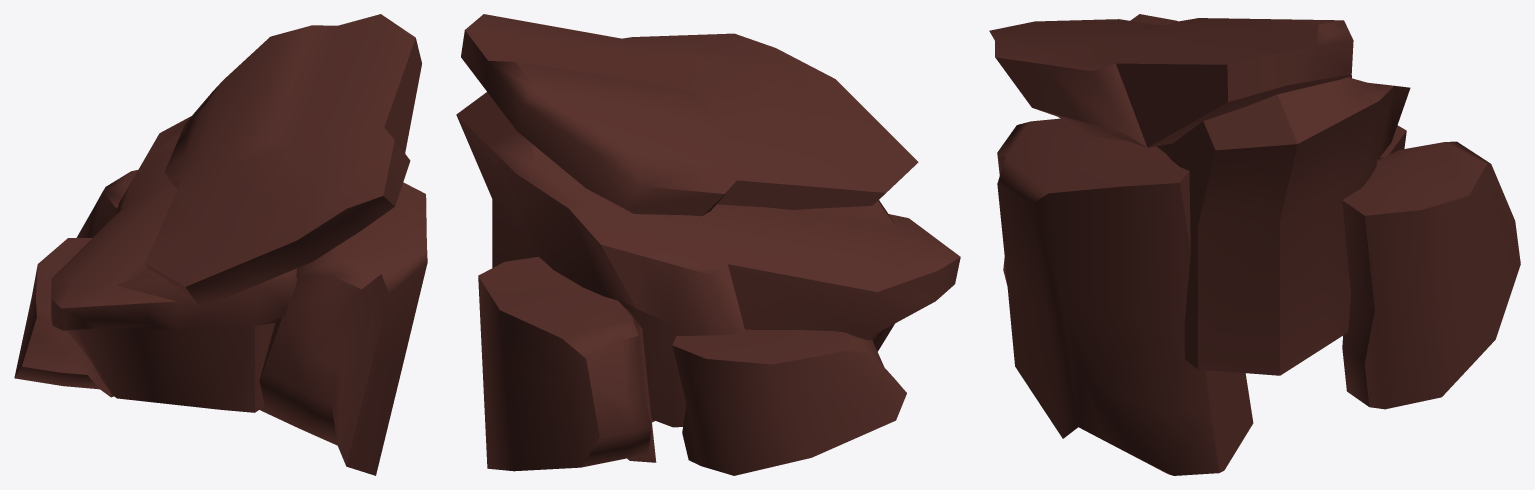
Rendered from SM_rock_complex_C.fbx.
3 renders of one model, left to right at view 1: azimuth 30°, elevation 25°; view 2: azimuth 150°, elevation 25°; view 3: azimuth 270°, elevation 25°, orthographic. The views are drawn at different scales.
Parts seen in each view (by area): view 1: polySurface8; view 2: polySurface8; view 3: polySurface8.
Boxes of the visible parts, x1,y1,x2,y2 form: polySurface8: [14, 14, 427, 475]; polySurface8: [456, 14, 960, 475]; polySurface8: [989, 14, 1520, 475].
Bounding box in the file's own units: 680 × 624 × 652.
